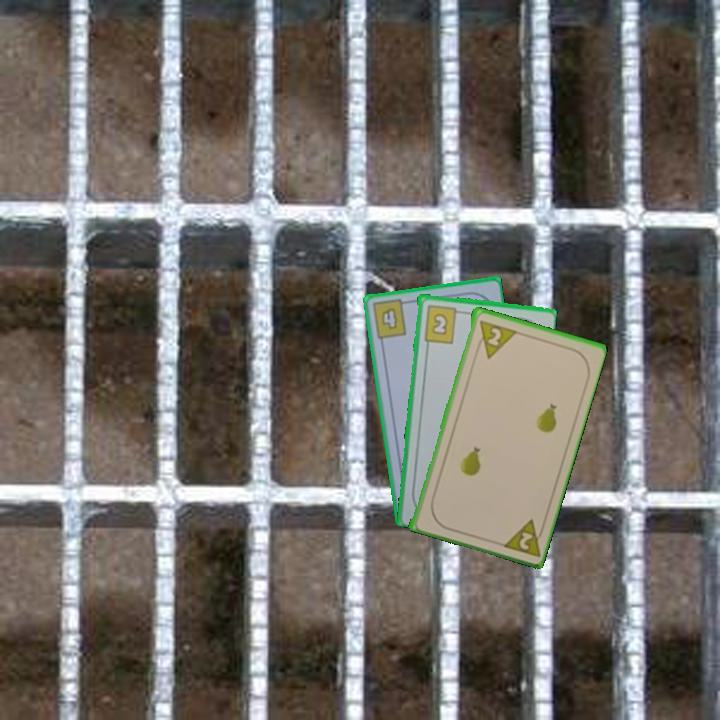2b: (420, 301, 465, 345)
2p: (497, 515, 548, 559), (473, 316, 518, 361)
4b: (368, 296, 412, 341)
